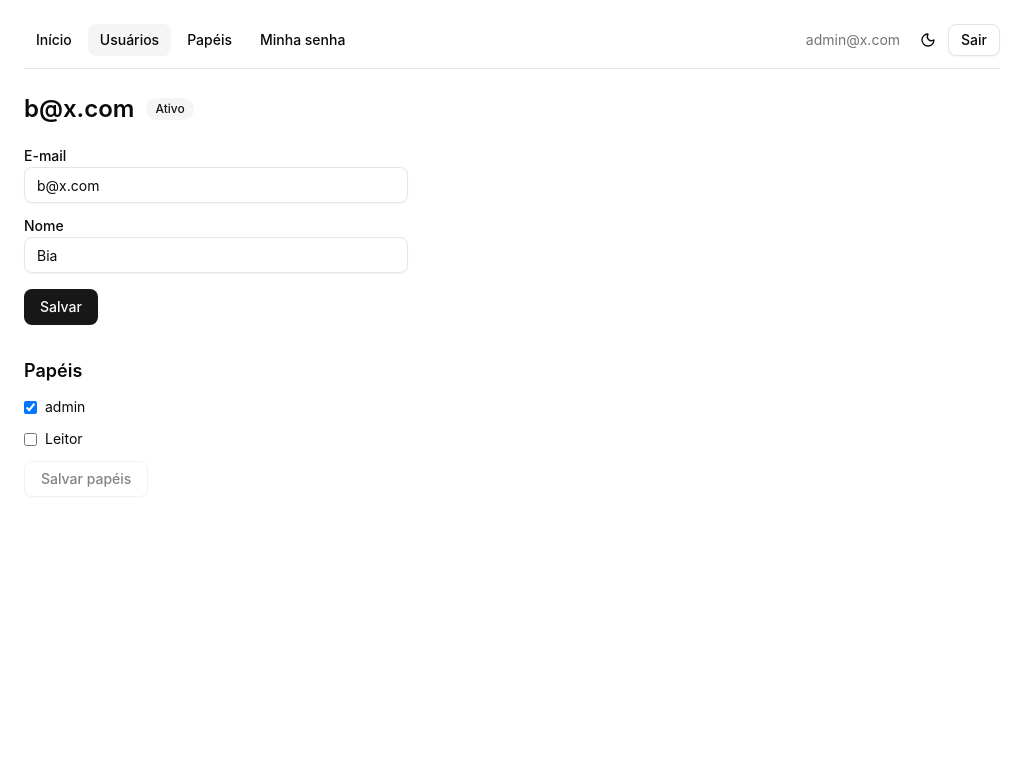
Test: UserRoles on /users/$id › confirms and saves
Expected: the checkbox labelled "admin" is checked, [24,400,37,414]
Click the checkbox labelled "Leitor": (30, 439) [24,432,37,446]
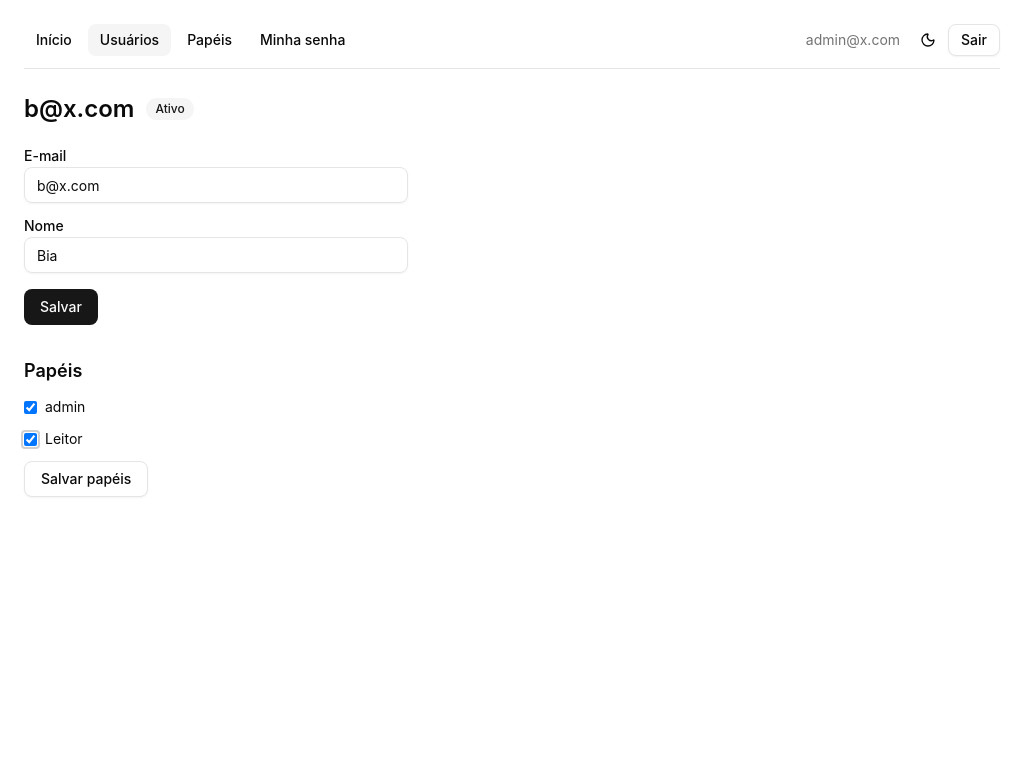
Click the button "Salvar papéis": (86, 479) [24,461,148,497]
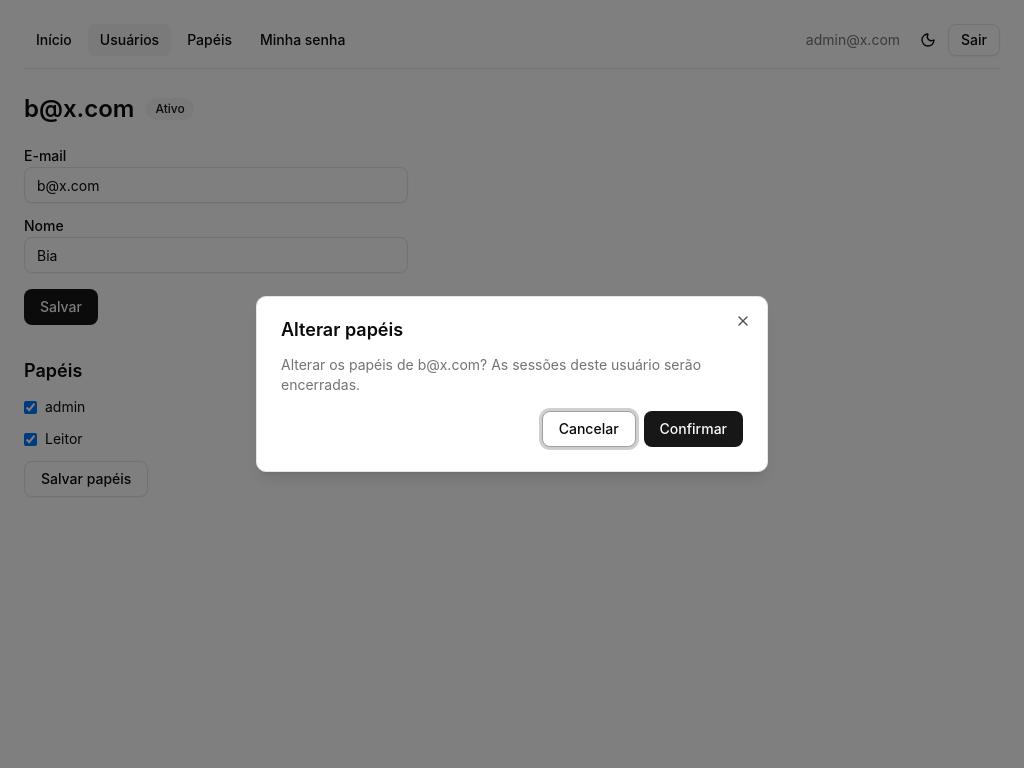
Now the dialog shows "Alterar os papéis de b@x.com? As sessões deste usuário serão encerradas.", box [256,296,768,472]
Click the button "Cancelar": (589, 429) [542,411,636,447]
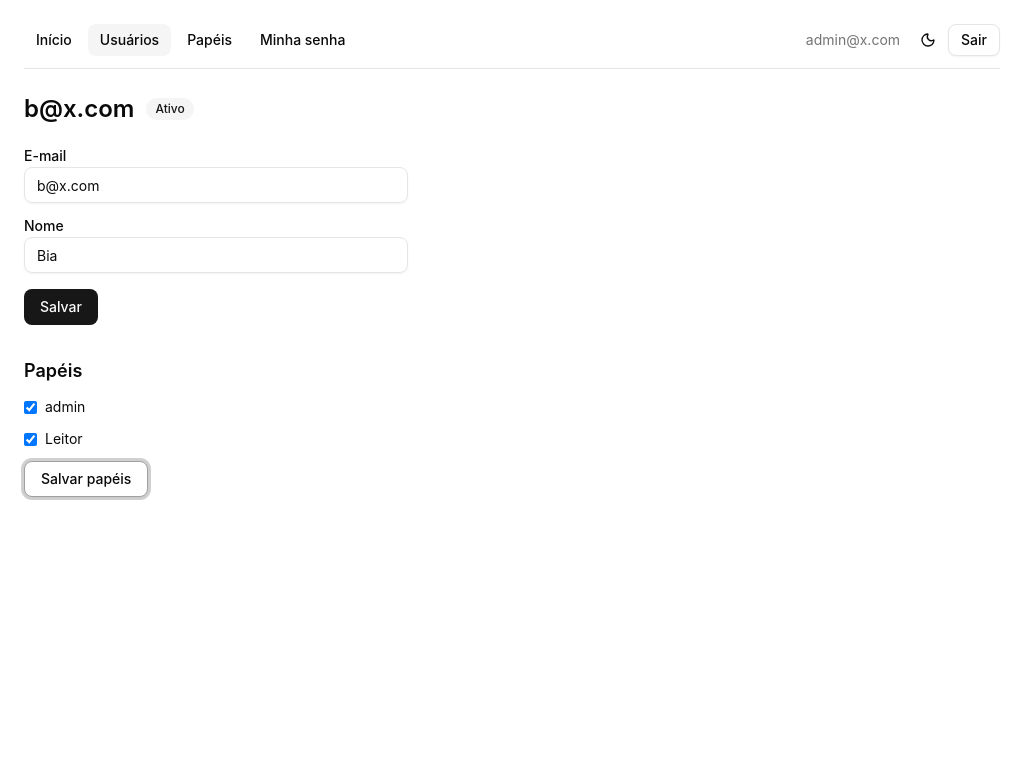
Now the dialog is gone
Click the button "Salvar papéis": (86, 479) [24,461,148,497]
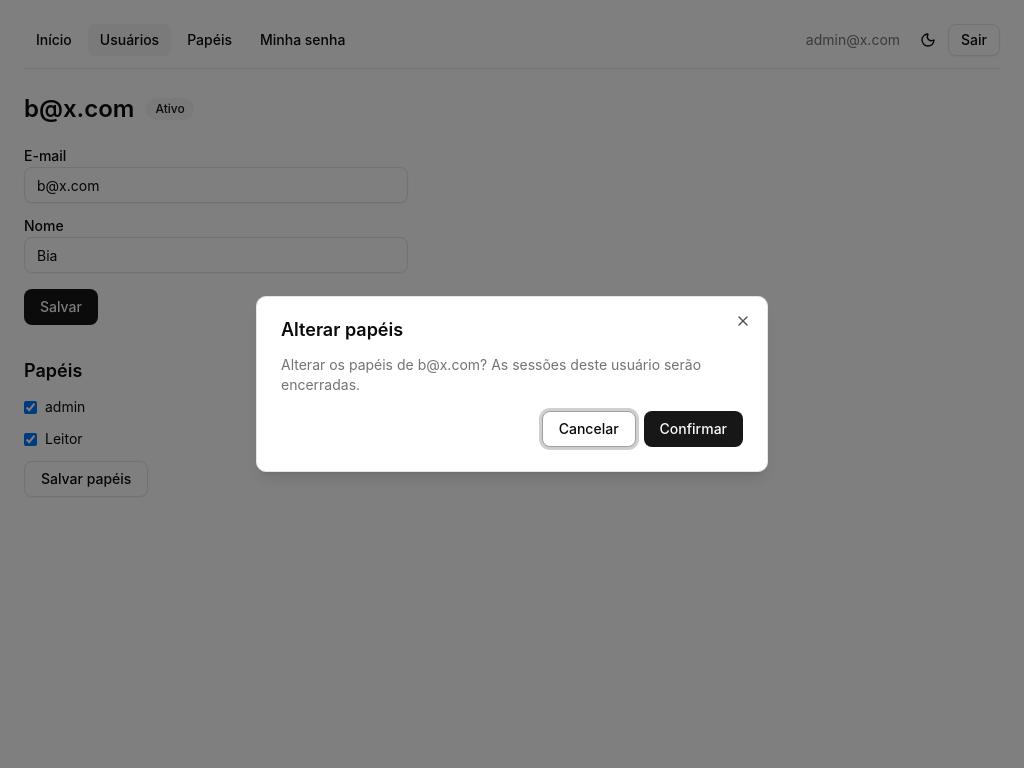
Click the button "Confirmar": (693, 429) [644,411,743,447]
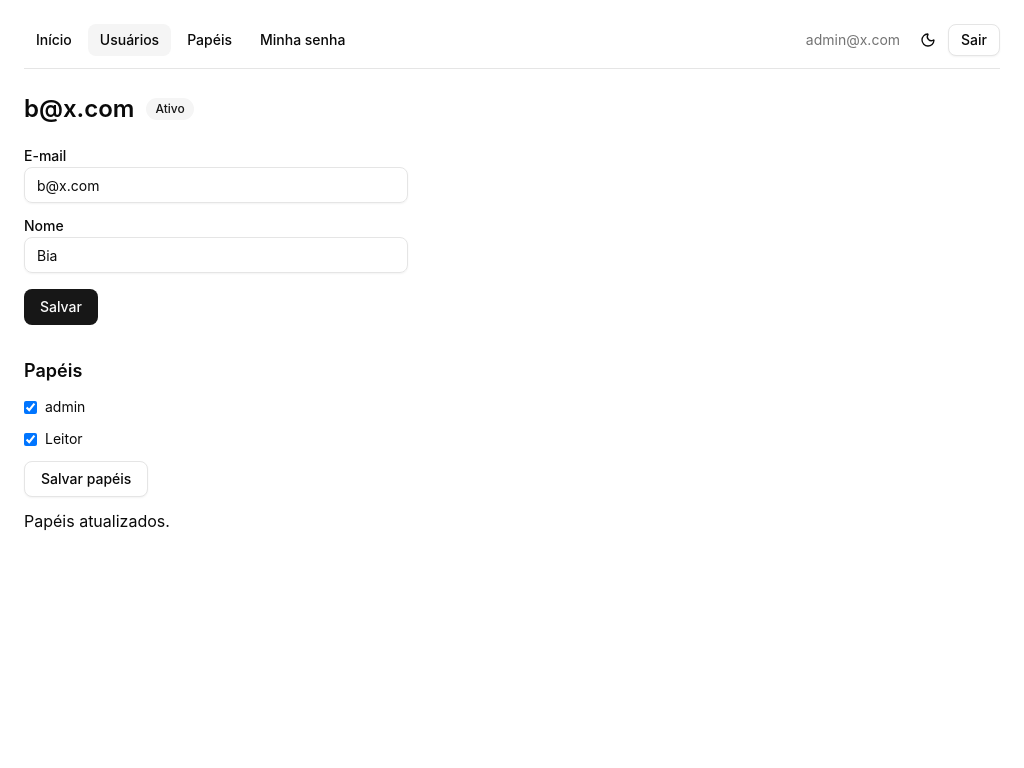
Now the text "Papéis atualizados." is shown, box [24,511,170,531]
